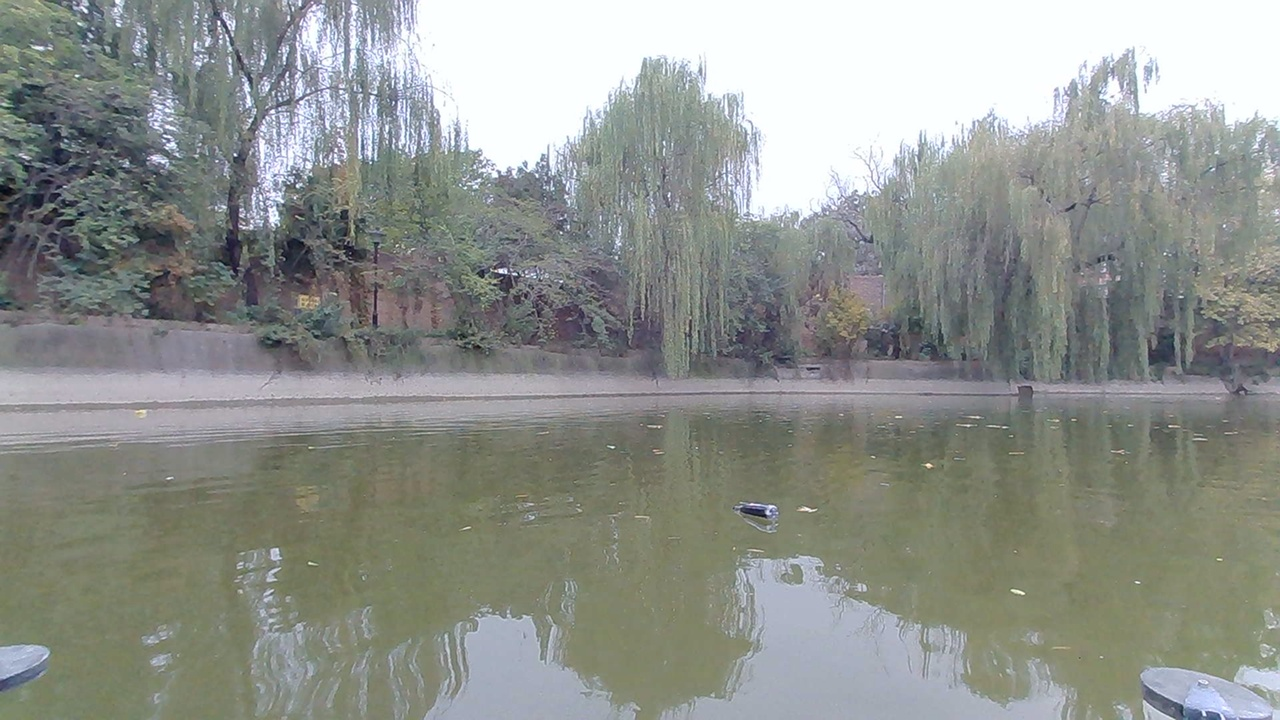bottle: (734, 496, 788, 530)
